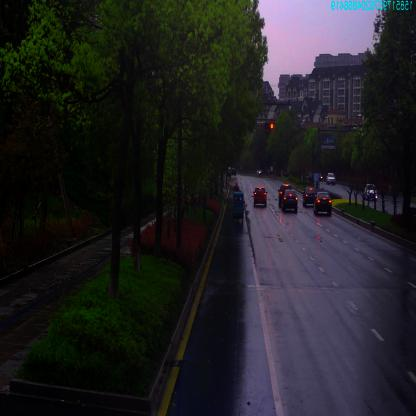traffic-light: (264, 122, 276, 129)
